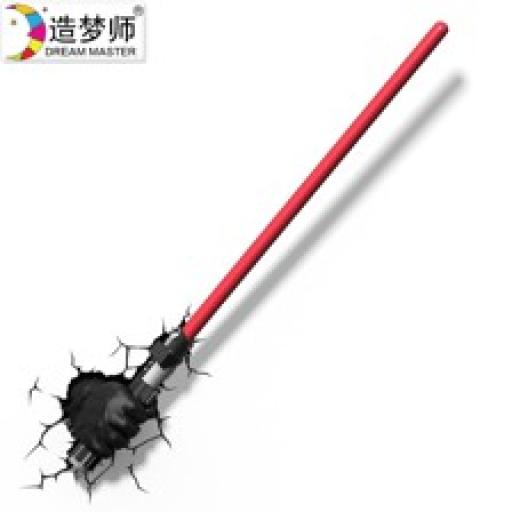sith saber: (61, 13, 453, 499)
